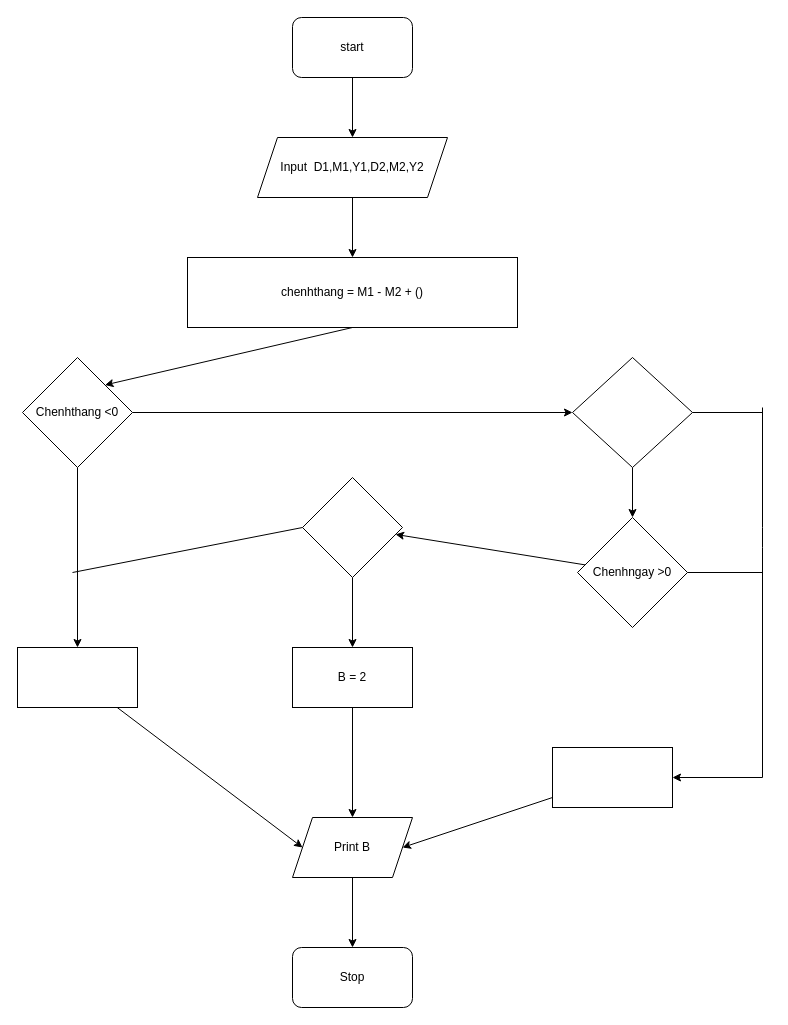
The diagram is 788 pixels wide and 1025 high, and some of its shapes have lost their labels. The centre of each missing label's shape, as x and y in pixels:
"B = 1" goes at point 612,777.
"B = 3" goes at point 77,677.
"chenhngay <0" goes at point 352,527.
"Chenhthang >0" goes at point 632,412.
